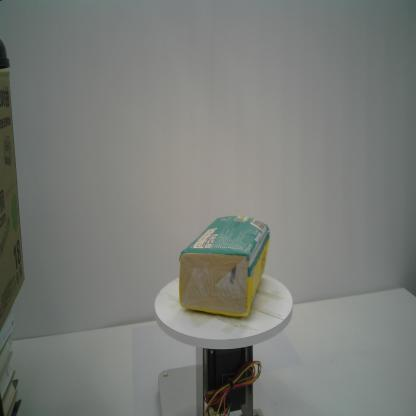Tissue: (177, 212, 271, 319)
